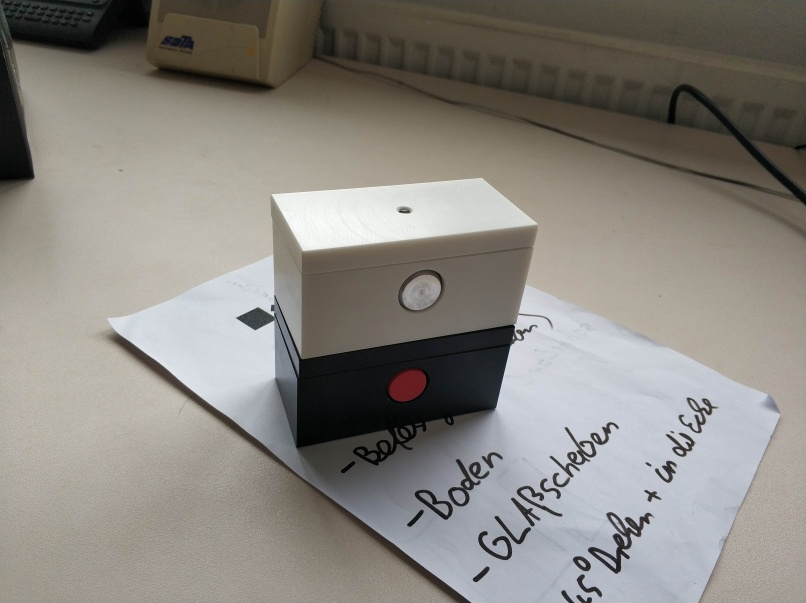black+black+red: (270, 291, 518, 451)
white+white+silver: (269, 172, 541, 359)
